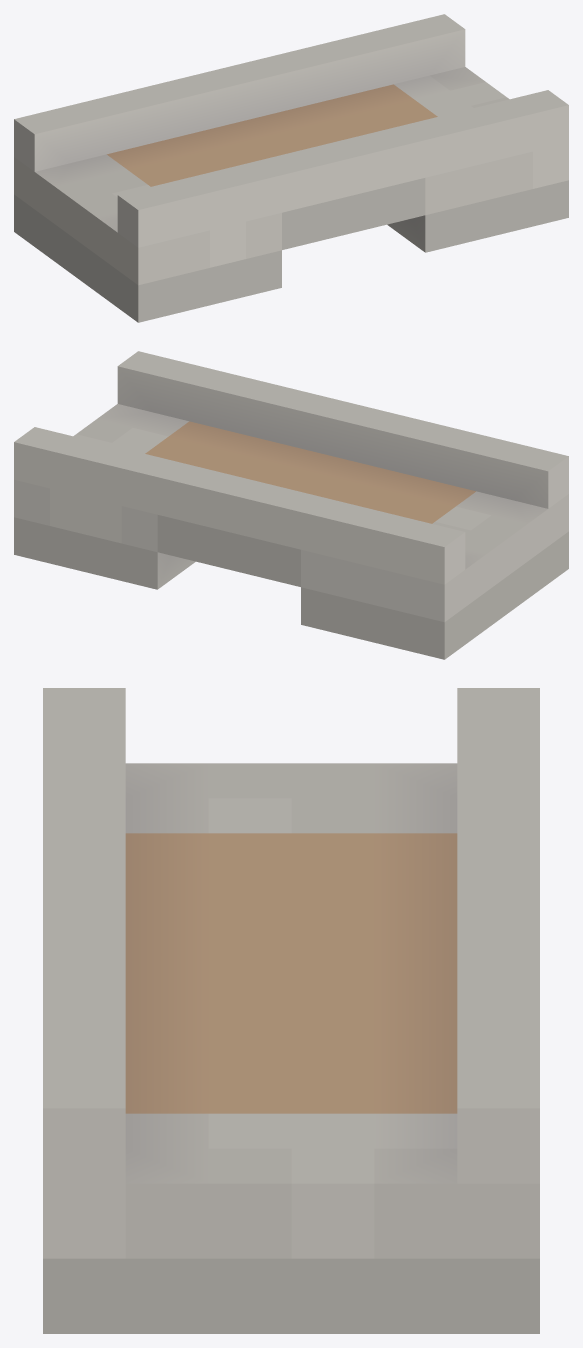
File: decor_bridge_1.glb
The picture shows the model from 3 angles, top to bottom: view 1: azimuth 30°, elevation 25°; view 2: azimuth 150°, elevation 25°; view 3: azimuth 270°, elevation 25°; orthographic projection. The views are drawn at different scales.
Parts seen in each view (by area): view 1: decor_bridge_1; view 2: decor_bridge_1; view 3: decor_bridge_1.
Boxes of the visible parts, bbox=[...] form: decor_bridge_1: bbox=[14, 14, 568, 322]; decor_bridge_1: bbox=[14, 351, 568, 659]; decor_bridge_1: bbox=[43, 688, 539, 1333].
Size of the model in its own units: 1.5 by 0.375 by 0.75.
